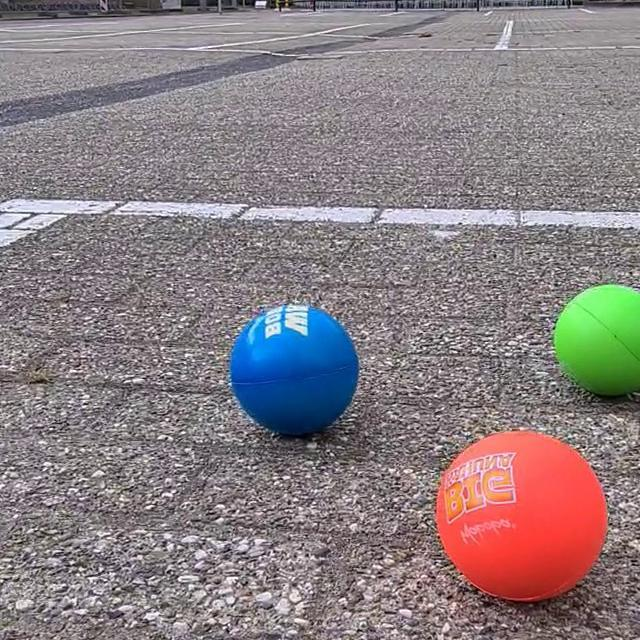ball: (226, 300, 362, 435), (553, 279, 640, 406)
